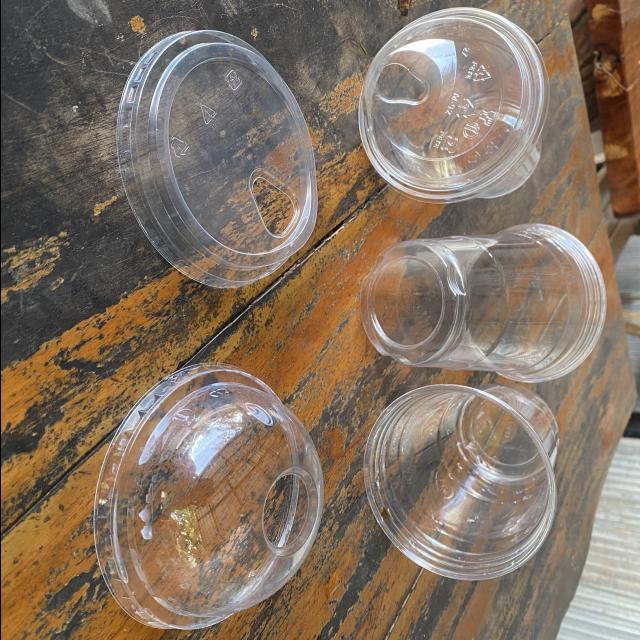plastik: (93, 364, 323, 629), (116, 30, 316, 287), (359, 224, 605, 382), (363, 384, 557, 580), (358, 7, 548, 203)
